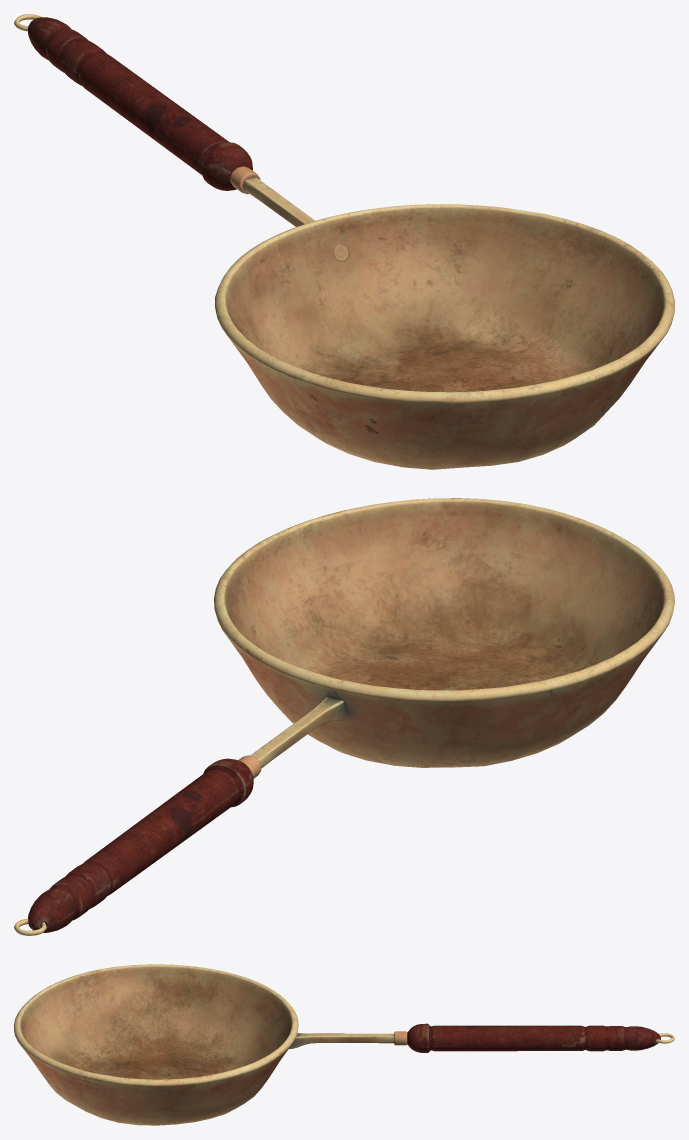
File: brass-pan.glb
The picture shows the model from 3 angles, top to bottom: view 1: azimuth 30°, elevation 25°; view 2: azimuth 150°, elevation 25°; view 3: azimuth 270°, elevation 25°; orthographic projection. The views are drawn at different scales.
Visible parts, largest first — view 1: brass_pan_01; view 2: brass_pan_01; view 3: brass_pan_01.
Boxes of the visible parts, x1,y1,x2,y2 form: brass_pan_01: (14,14,674,469); brass_pan_01: (14,498,674,935); brass_pan_01: (14,964,674,1125).
Bounding box in the file's own units: 0.1913 × 0.0525 × 0.4497.
Materials: 1 (1 with a texture image).
